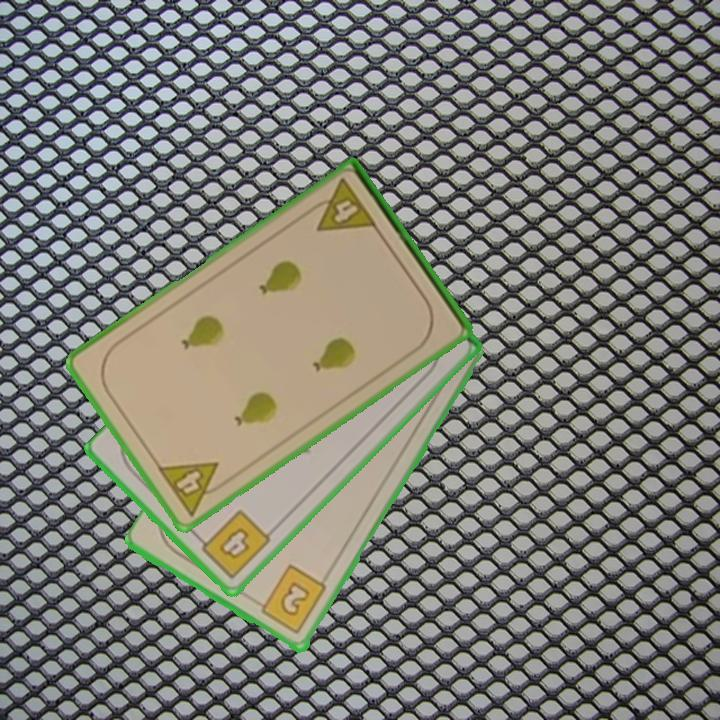2b: (251, 562, 330, 638)
4b: (192, 506, 274, 582)
4p: (153, 458, 233, 519), (303, 175, 379, 236)
